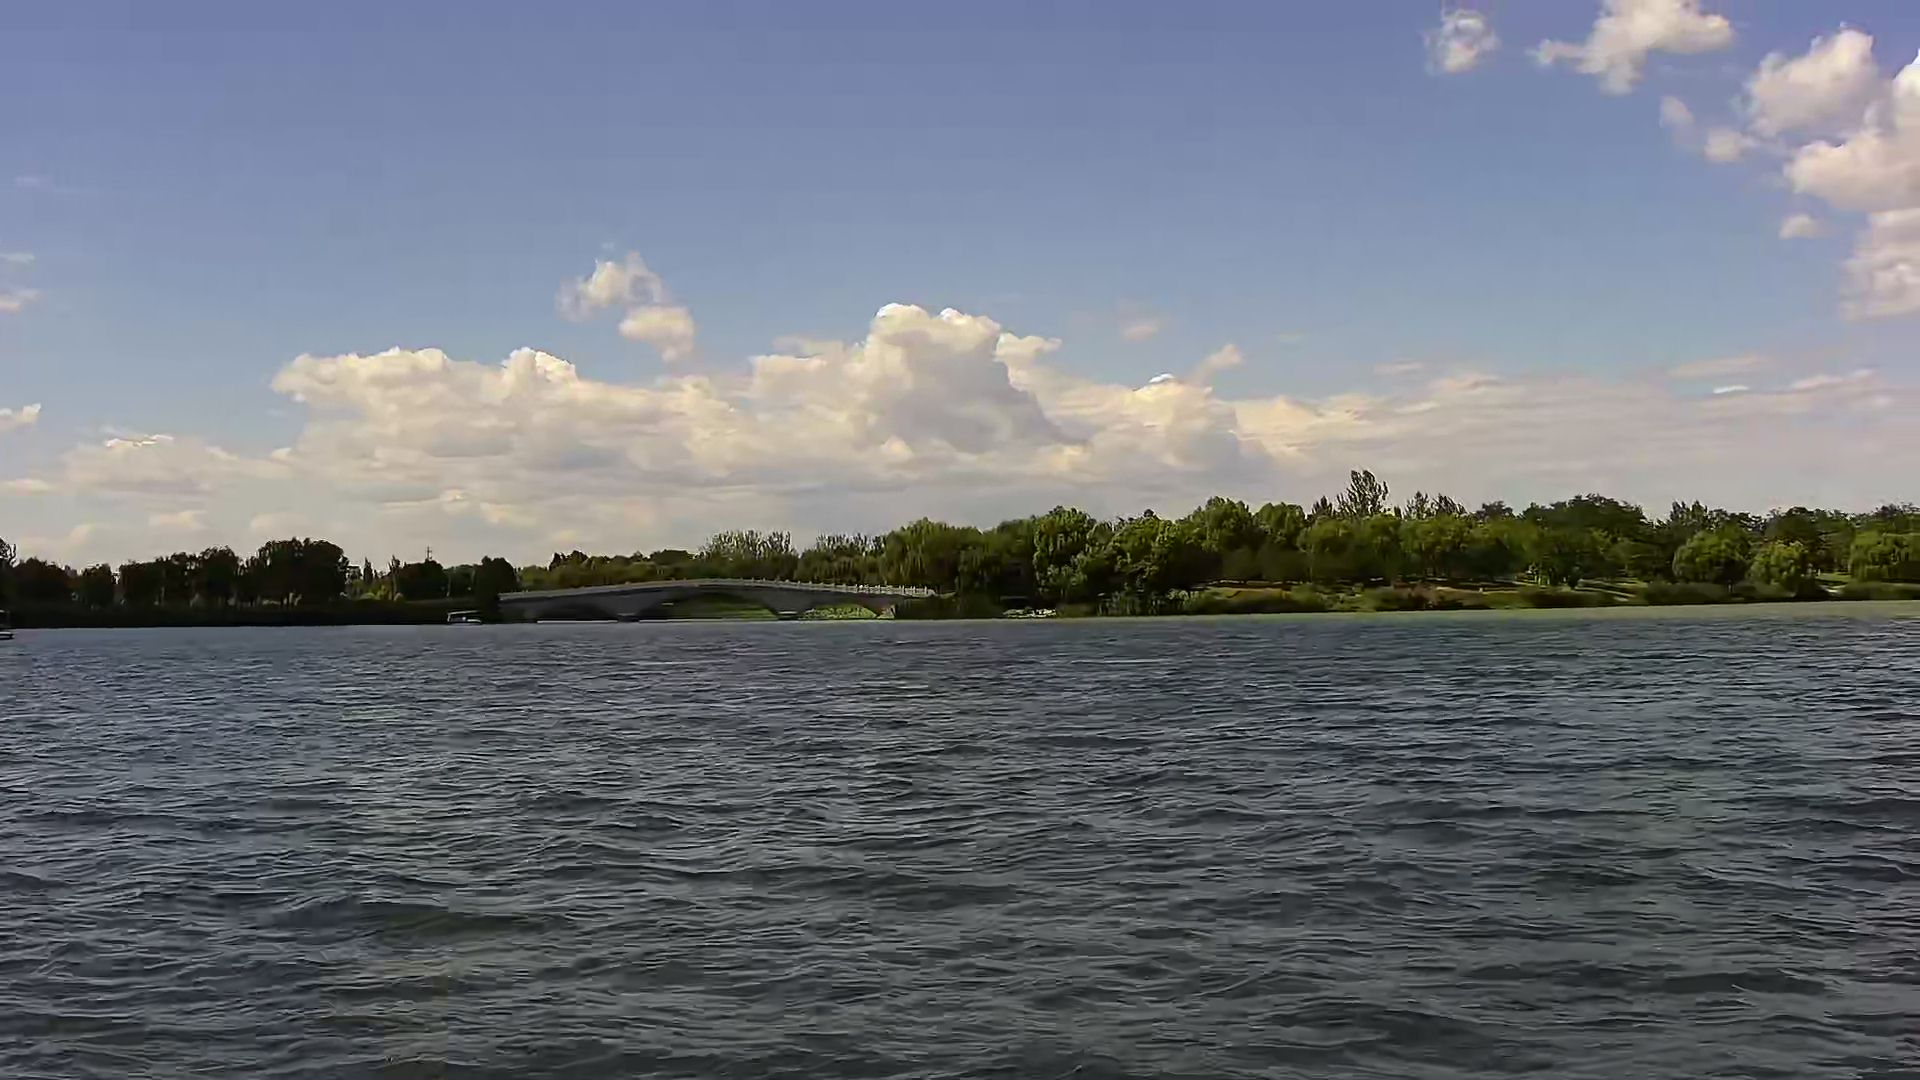bridge: (500, 574, 938, 626)
